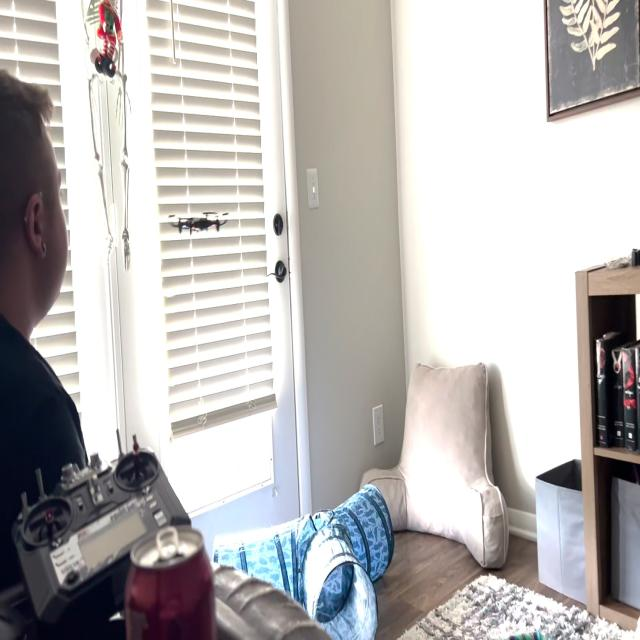drone: (163, 205, 234, 239)
